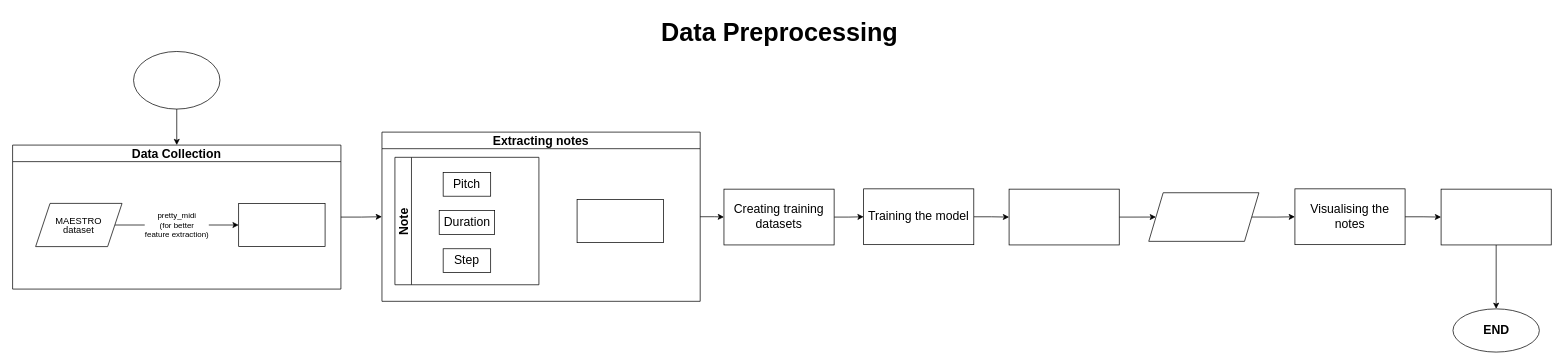
This 1564x364 diagram has some shape labels left out. Here are the shapes that lost their labels. From the top down, the centre of each, then its label:
At point 176,80: "START".
At point 281,225: "Generated Audio".
At point 619,221: "Generating note's name".
At point 1063,216: "Generating the notes".
At point 1203,216: "Getting Output".
At point 1495,216: "Analysing the plots".
